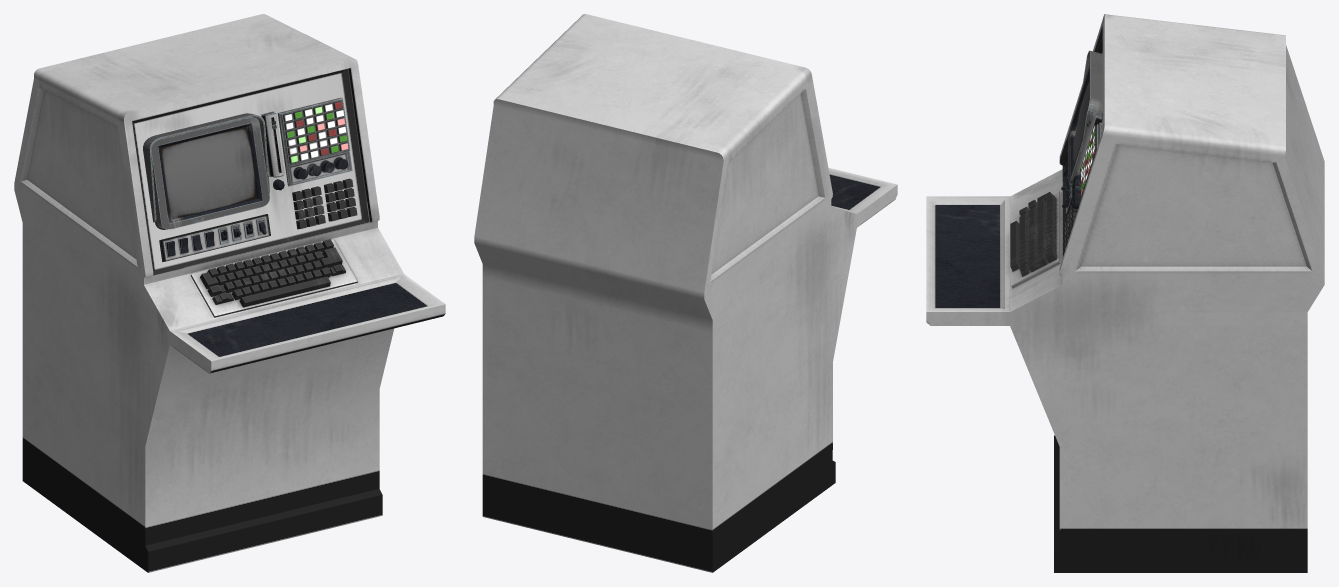
The model's file is old_nasa_style_computer_console.glb.
3 renders of one model, left to right at view 1: azimuth 30°, elevation 25°; view 2: azimuth 150°, elevation 25°; view 3: azimuth 270°, elevation 25°, orthographic. The views are drawn at different scales.
Visible parts, largest first — view 1: Box132__0; view 2: Box132__0; view 3: Box132__0.
Part boxes in pixels (<box>): Box132__0: <box>14,14,445,572</box>; Box132__0: <box>474,14,897,572</box>; Box132__0: <box>926,14,1324,572</box>.
Size of the model in its own units: 2.29 by 4.11 by 3.33.
1 material, 1 textured.
